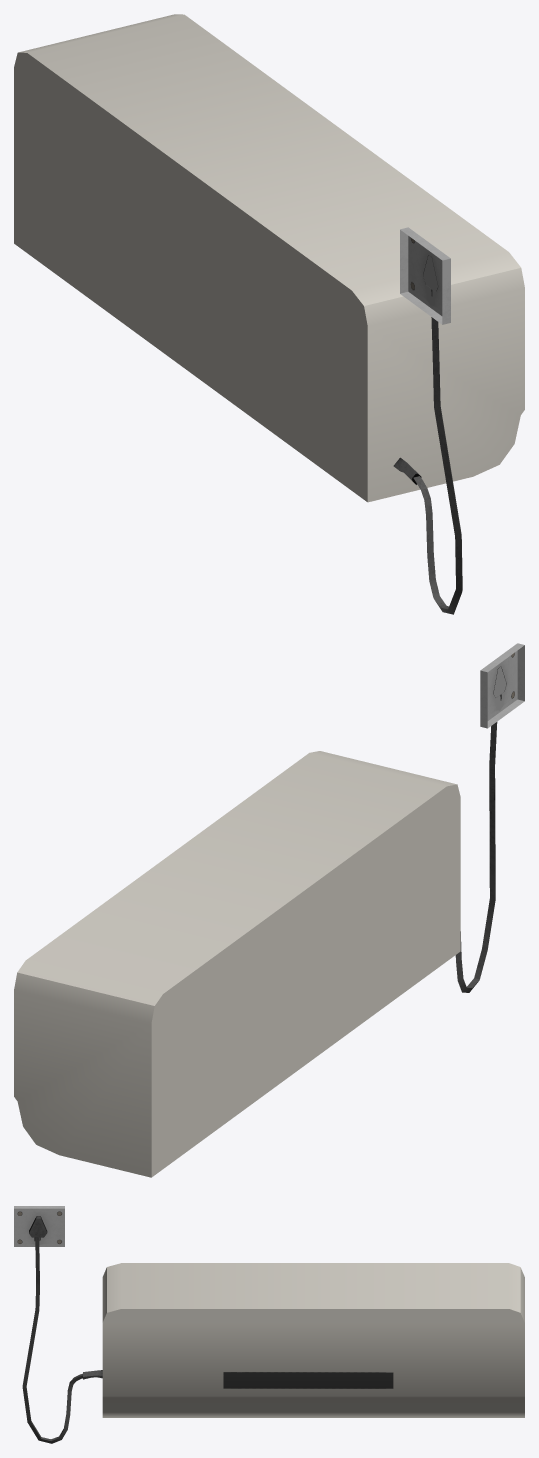
Rendered from aws_AirconditionerA_01_visual.DAE.
The picture shows the model from 3 angles, top to bottom: view 1: azimuth 30°, elevation 25°; view 2: azimuth 150°, elevation 25°; view 3: azimuth 270°, elevation 25°; orthographic projection. The views are drawn at different scales.
Visible parts, largest first — view 1: aws_AirconditionerA_01_visual; view 2: aws_AirconditionerA_01_visual; view 3: aws_AirconditionerA_01_visual.
Part boxes in pixels (left/top/right/bottom): aws_AirconditionerA_01_visual: left=14, top=14, right=524, bottom=614; aws_AirconditionerA_01_visual: left=14, top=643, right=524, bottom=1177; aws_AirconditionerA_01_visual: left=14, top=1206, right=524, bottom=1443.
Bounding box in the file's own units: 20.54 × 96.76 × 47.73.
1 material, 1 textured.
